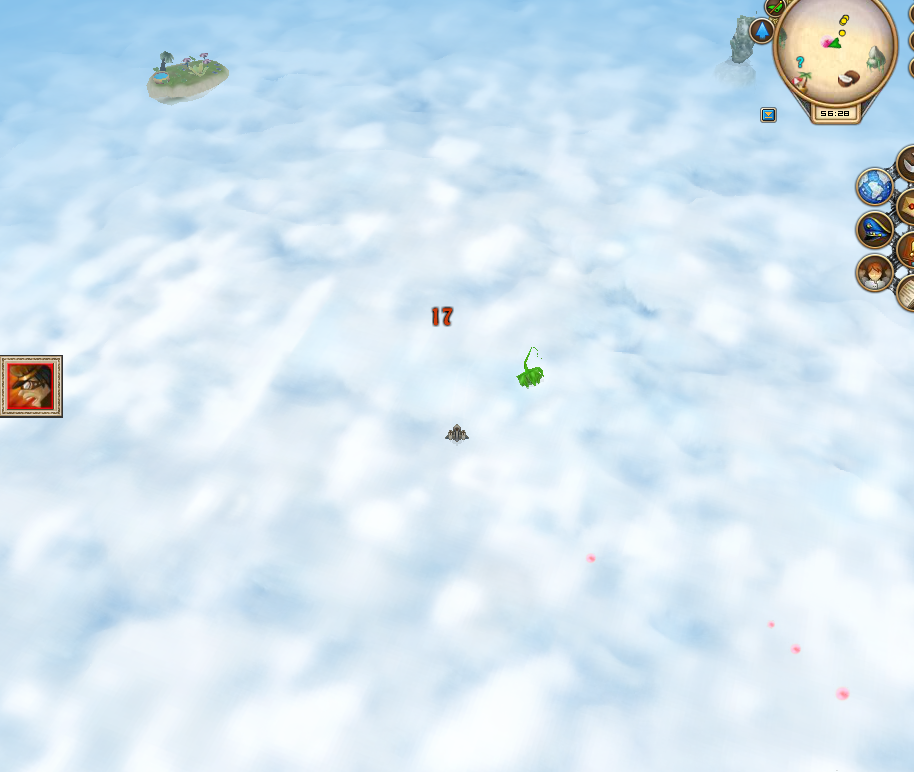dandelion-empty: (518, 342, 546, 391)
fluff: (832, 685, 854, 702), (583, 552, 599, 565), (792, 640, 801, 655), (767, 618, 777, 629)
